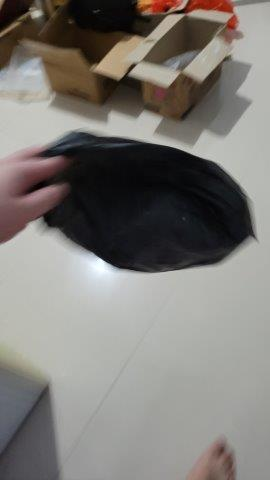plastik: (20, 129, 260, 275)
